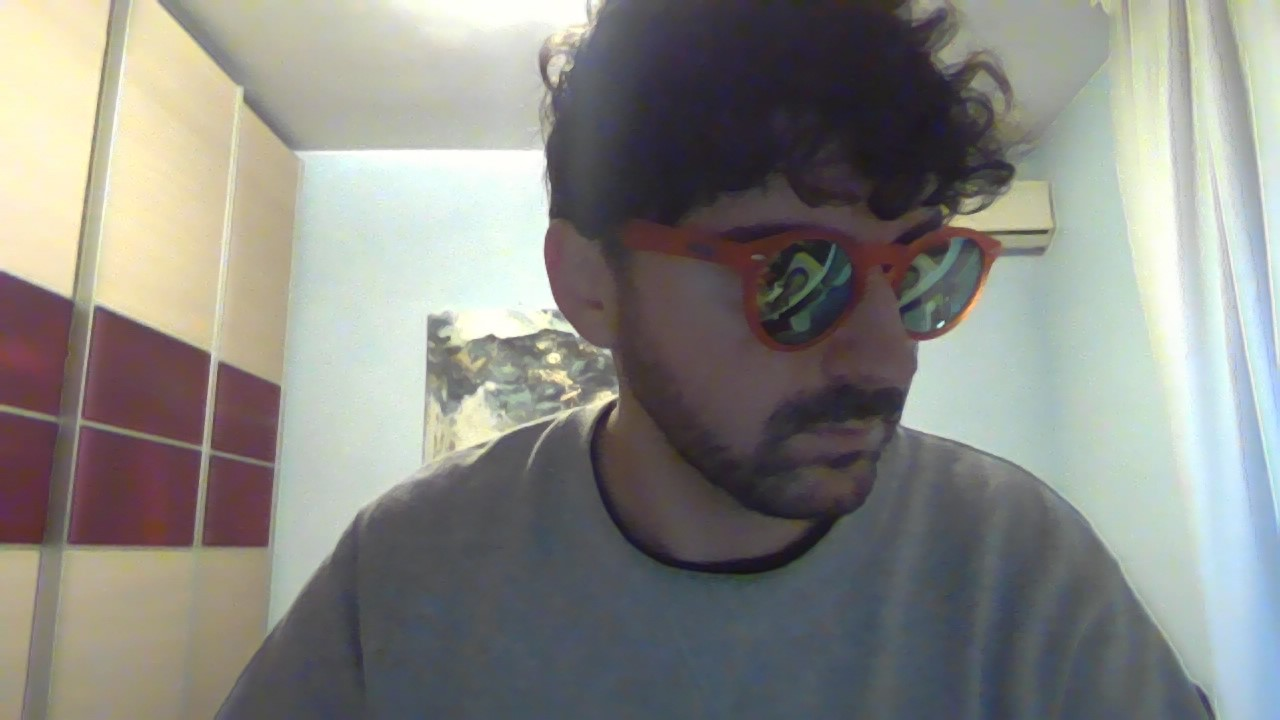Glasses: (569, 200, 1031, 365)
